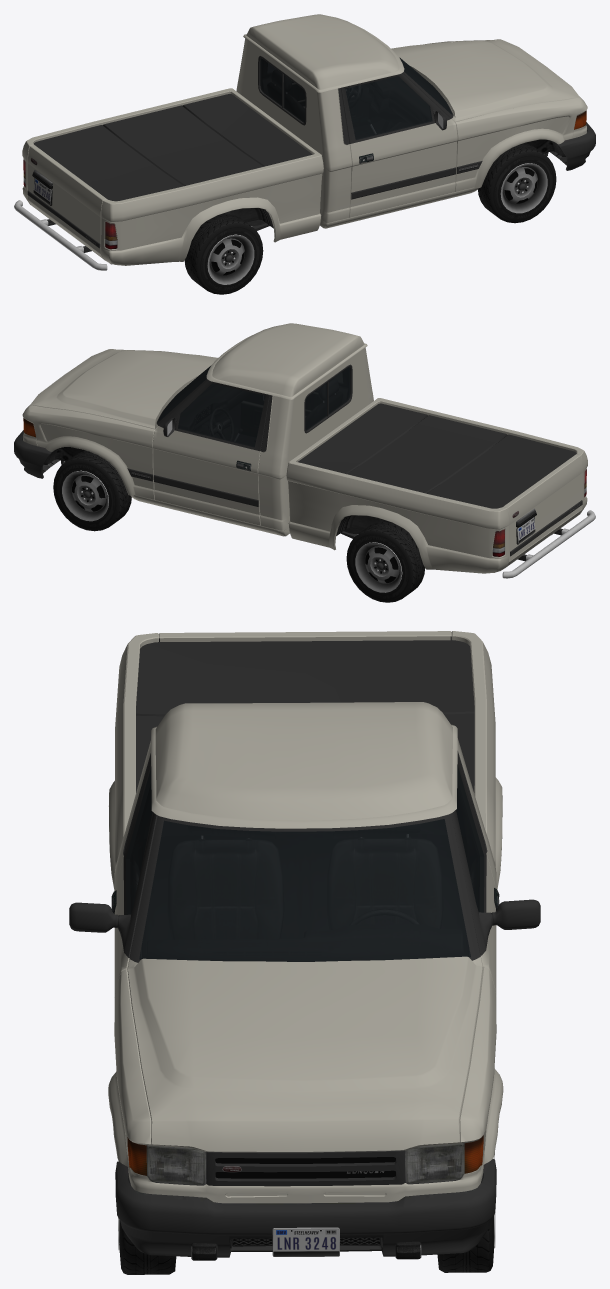
File: car_pickup_01.glb
3 views of the same model, one above another, from view 1: azimuth 30°, elevation 25°; view 2: azimuth 150°, elevation 25°; view 3: azimuth 270°, elevation 25° (orthographic). The views are drawn at different scales.
Parts seen in each view (by area): view 1: CnqerP89_Body_CnqerP89_Bodymat_0, CnqerP89_Trunk_Cover_UCB_BOTTOM_0, CnqerP89_hood_CnqerP89_Bodymat_0, CnqerP89_Interior_UCB_Interiors_2_0, CnqerP89_WheelStock_RR_RB1c_Tire_1k_0, CnqerP89_WheelStock_FR_RB1c_Tire_1k_0, CnqerP89_Bottom_UCB_BOTTOM_0, CnqerP89_Glass_Passenger_UCB_Lights_and_Glass_Transperent_0, CnqerP89_Trunkdoor_CnqerP89_Bodymat_0, CnqerP89_Rear_glass_UCB_Lights_and_Glass_Transperent_0, CnqerP89_front_bumper_UCB_BOTTOM_0, CnqerP89_bumper_rear_UCB_BOTTOM_0 (+3 smaller); view 2: CnqerP89_Body_CnqerP89_Bodymat_0, CnqerP89_Trunk_Cover_UCB_BOTTOM_0, CnqerP89_hood_CnqerP89_Bodymat_0, CnqerP89_WheelStock_RL_RB1c_Tire_1k_0, CnqerP89_Interior_UCB_Interiors_2_0, CnqerP89_WheelStock_FL_RB1c_Tire_1k_0, CnqerP89_Bottom_UCB_BOTTOM_0, CnqerP89_Glass_Driver_UCB_Lights_and_Glass_Transperent_0, CnqerP89_Trunkdoor_CnqerP89_Bodymat_0, CnqerP89_Rear_glass_UCB_Lights_and_Glass_Transperent_0, CnqerP89_front_bumper_UCB_BOTTOM_0, CnqerP89_bumper_rear_UCB_BOTTOM_0 (+3 smaller); view 3: CnqerP89_Body_CnqerP89_Bodymat_0, CnqerP89_hood_CnqerP89_Bodymat_0, CnqerP89_Interior_UCB_Interiors_2_0, CnqerP89_Windshield_UCB_Lights_and_Glass_Transperent_0, CnqerP89_Trunk_Cover_UCB_BOTTOM_0, CnqerP89_front_bumper_UCB_BOTTOM_0, CnqerP89_Bottom_UCB_BOTTOM_0, CnqerP89_Headlights_Glass_UCB_Lights_and_Glass_Transperent_0, CnqerP89_Headlights_UCB_Lights_and_Glass_0, CnqerP89_Trunkdoor_CnqerP89_Bodymat_0, CnqerP89_NP_Stock_Front_Numberplates_Misk_U_0, CnqerP89_Glass_Driver_UCB_Lights_and_Glass_Transperent_0 (+4 smaller).
Part boxes in pixels (box(x1,y1,x2,y2)): CnqerP89_Body_CnqerP89_Bodymat_0: box(22, 14, 587, 265); CnqerP89_Trunk_Cover_UCB_BOTTOM_0: box(34, 94, 312, 201); CnqerP89_hood_CnqerP89_Bodymat_0: box(391, 40, 583, 121); CnqerP89_Interior_UCB_Interiors_2_0: box(262, 59, 451, 138); CnqerP89_WheelStock_RR_RB1c_Tire_1k_0: box(184, 214, 263, 294); CnqerP89_WheelStock_FR_RB1c_Tire_1k_0: box(478, 143, 556, 223); CnqerP89_Bottom_UCB_BOTTOM_0: box(46, 56, 565, 264); CnqerP89_Glass_Passenger_UCB_Lights_and_Glass_Transperent_0: box(345, 76, 432, 139); CnqerP89_Trunkdoor_CnqerP89_Bodymat_0: box(28, 145, 106, 253); CnqerP89_Rear_glass_UCB_Lights_and_Glass_Transperent_0: box(260, 58, 305, 122); CnqerP89_front_bumper_UCB_BOTTOM_0: box(550, 122, 595, 170); CnqerP89_bumper_rear_UCB_BOTTOM_0: box(14, 200, 107, 270); CnqerP89_Body_CnqerP89_Bodymat_0: box(22, 323, 587, 573); CnqerP89_Trunk_Cover_UCB_BOTTOM_0: box(298, 403, 576, 508); CnqerP89_hood_CnqerP89_Bodymat_0: box(26, 349, 217, 429); CnqerP89_WheelStock_RL_RB1c_Tire_1k_0: box(346, 522, 425, 602); CnqerP89_Interior_UCB_Interiors_2_0: box(159, 368, 348, 445); CnqerP89_WheelStock_FL_RB1c_Tire_1k_0: box(53, 451, 131, 531); CnqerP89_Bottom_UCB_BOTTOM_0: box(44, 364, 562, 561); CnqerP89_Glass_Driver_UCB_Lights_and_Glass_Transperent_0: box(178, 383, 265, 447); CnqerP89_Trunkdoor_CnqerP89_Bodymat_0: box(503, 454, 582, 561); CnqerP89_Rear_glass_UCB_Lights_and_Glass_Transperent_0: box(305, 367, 350, 430); CnqerP89_front_bumper_UCB_BOTTOM_0: box(14, 430, 60, 478); CnqerP89_bumper_rear_UCB_BOTTOM_0: box(502, 510, 595, 578); CnqerP89_Body_CnqerP89_Bodymat_0: box(108, 631, 503, 1203); CnqerP89_hood_CnqerP89_Bodymat_0: box(127, 956, 482, 1151); CnqerP89_Interior_UCB_Interiors_2_0: box(130, 784, 479, 961); CnqerP89_Windshield_UCB_Lights_and_Glass_Transperent_0: box(139, 819, 470, 961); CnqerP89_Trunk_Cover_UCB_BOTTOM_0: box(136, 640, 474, 792); CnqerP89_front_bumper_UCB_BOTTOM_0: box(115, 1159, 496, 1260); CnqerP89_Bottom_UCB_BOTTOM_0: box(69, 751, 540, 1197); CnqerP89_Headlights_Glass_UCB_Lights_and_Glass_Transperent_0: box(127, 1135, 483, 1185); CnqerP89_Headlights_UCB_Lights_and_Glass_0: box(147, 1144, 463, 1184); CnqerP89_Trunkdoor_CnqerP89_Bodymat_0: box(159, 631, 451, 641); CnqerP89_NP_Stock_Front_Numberplates_Misk_U_0: box(272, 1227, 339, 1256); CnqerP89_Glass_Driver_UCB_Lights_and_Glass_Transperent_0: box(456, 765, 484, 912).
Bounding box in the file's own units: 5.22 × 1.85 × 2.1.
Materials: 8 (7 with a texture image).
